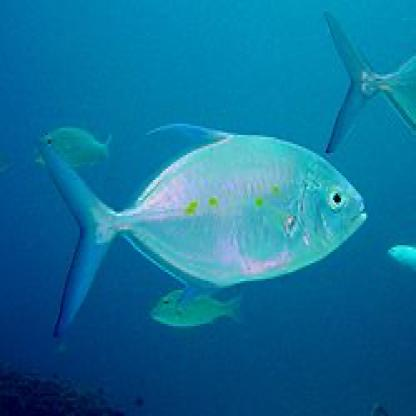Carangidae -Jacks-: (25, 107, 371, 338)
